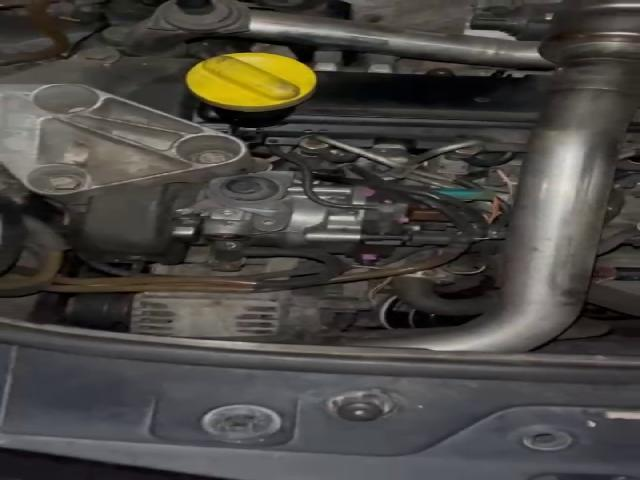alternator: (130, 292, 287, 337)
high_pressure_pump: (200, 184, 408, 264)
